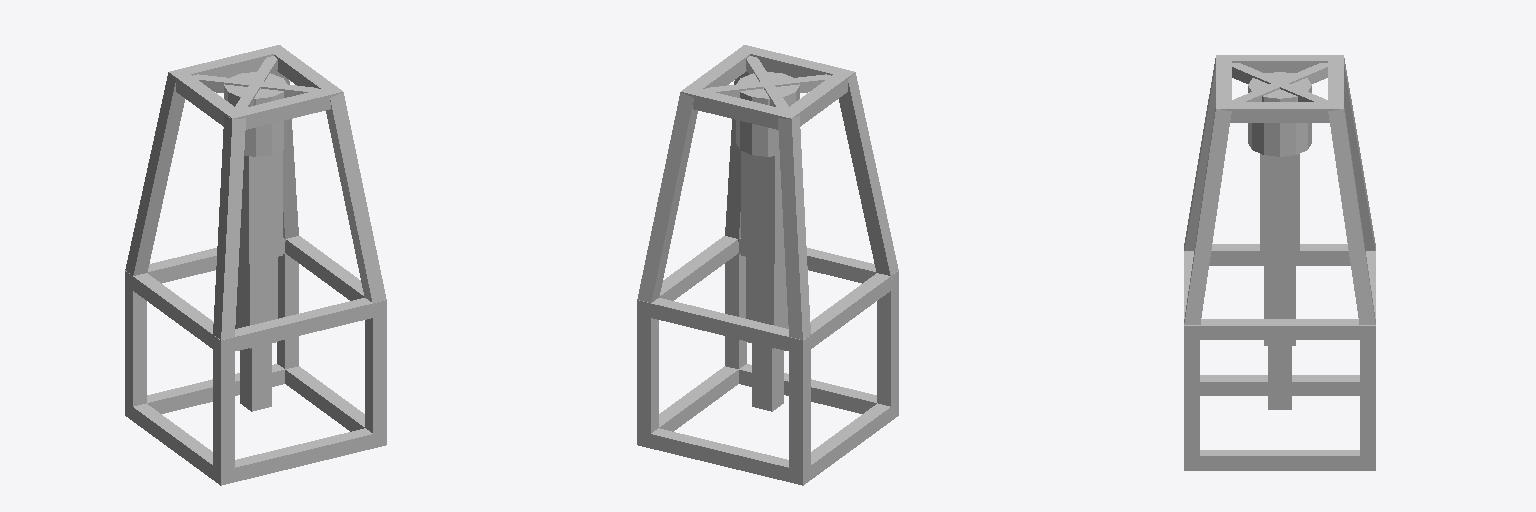
File: liquid_drill.obj
The picture shows the model from 3 angles: view 1: azimuth 30°, elevation 25°; view 2: azimuth 150°, elevation 25°; view 3: azimuth 270°, elevation 25°; orthographic projection.
Visible parts, largest first — view 1: Southwest, South, Southeast, Northwest, West, East, Middle, North, Top, Northeast, Motor, SE-NW (+1 smaller); view 2: Northwest, North, Northeast, Southwest, West, East, Middle, South, Top, Southeast, Motor, NE-SW (+1 smaller); view 3: East, West, Northeast, Southeast, Top, Middle, Motor, Southwest, Northwest, North, South, NE-SW (+1 smaller).
Boxes of the visible parts, <box> form: Southwest: <box>213,115,245,485</box>; South: <box>235,89,372,481</box>; Southeast: <box>326,92,386,448</box>; Northwest: <box>125,72,184,420</box>; West: <box>133,69,245,479</box>; East: <box>266,45,364,431</box>; Middle: <box>235,257,277,411</box>; North: <box>147,48,284,413</box>; Top: <box>239,151,282,263</box>; Northeast: <box>275,71,298,368</box>; Motor: <box>224,72,287,156</box>; SE-NW: <box>193,74,319,97</box>; Northwest: <box>778,115,810,485</box>; North: <box>651,89,788,481</box>; Northeast: <box>637,92,697,448</box>; Southwest: <box>839,72,898,420</box>; West: <box>778,69,890,479</box>; East: <box>659,45,757,431</box>; Middle: <box>746,257,788,411</box>; South: <box>739,48,876,413</box>; Top: <box>741,151,784,263</box>; Southeast: <box>725,71,748,368</box>; Motor: <box>736,72,799,156</box>; NE-SW: <box>704,74,830,97</box>; East: <box>1200,102,1359,470</box>; West: <box>1200,55,1359,395</box>; Northeast: <box>1328,108,1375,470</box>; Southeast: <box>1184,108,1231,470</box>; Top: <box>1260,154,1299,260</box>; Middle: <box>1264,261,1295,409</box>; Motor: <box>1248,72,1311,156</box>; Southwest: <box>1184,58,1215,250</box>; Northwest: <box>1344,58,1375,250</box>; North: <box>1328,61,1375,318</box>; South: <box>1184,61,1231,318</box>; NE-SW: <box>1232,63,1327,101</box>.
Bounding box in the file's own units: 3 × 6 × 3.